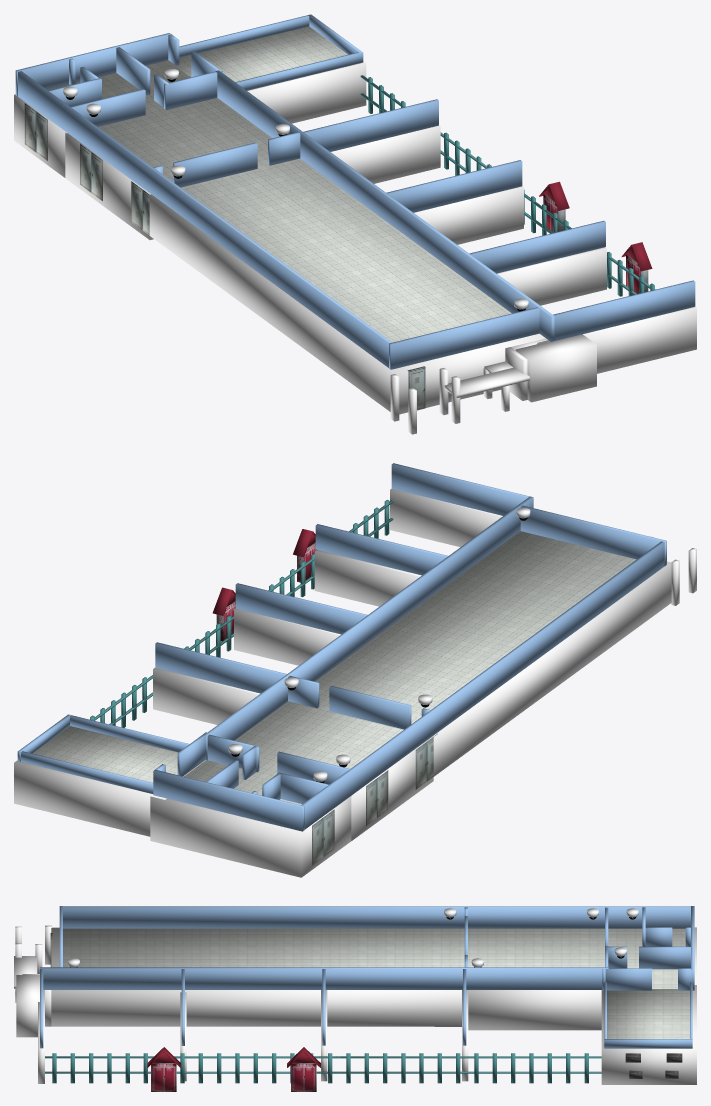
The model's file is ts_2f_mini.gltf.
3 views of the same model, one above another, from view 1: azimuth 30°, elevation 25°; view 2: azimuth 150°, elevation 25°; view 3: azimuth 270°, elevation 25° (orthographic). The views are drawn at different scales.
Parts seen in each view (by area): view 1: ts_dimian_2f, ts_waiguan_2f_11, ts_qiang_2f_8, ts_qiang_2f_7, ts_waiguan_2f_8, ts_waiguan_2f_27, ts_qiang_2f_6, ts_waiguan_2f_24, ts_qiang_2f, ts_waiguan_2f_22, ts_waiguan_2f_23, ts_waiguan_2f_21 (+17 smaller); view 2: ts_dimian_2f, ts_qiang_2f_8, ts_waiguan_2f_11, ts_waiguan_2f_7, ts_qiang_2f_7, ts_waiguan_2f_27, ts_qiang_2f_5, ts_waiguan_2f_8, ts_waiguan_2f_21, ts_waiguan_2f_22, ts_waiguan_2f_23, ts_qiang_2f_6 (+14 smaller); view 3: ts_dimian_2f, ts_waiguan_2f_11, ts_qiang_2f_8, ts_qiang_2f_7, ts_waiguan_2f_9, ts_waiguan_2f_27, ts_waiguan_2f_24, ts_qiang_2f_15, ts_qiang_2f_19, ts_qiang_2f_21, ts_waiguan_2f_18, ts_waiguan_2f_42 (+17 smaller).
Part boxes in pixels (x1,y1,x2,y2): ts_dimian_2f: (47, 26, 511, 342); ts_waiguan_2f_11: (149, 194, 545, 414); ts_qiang_2f_8: (18, 71, 391, 367); ts_qiang_2f_7: (215, 70, 554, 341); ts_waiguan_2f_8: (537, 307, 696, 373); ts_waiguan_2f_27: (248, 61, 366, 123); ts_qiang_2f_6: (389, 307, 539, 369); ts_waiguan_2f_24: (515, 334, 596, 402); ts_qiang_2f: (553, 280, 695, 340); ts_waiguan_2f_22: (497, 247, 606, 305); ts_waiguan_2f_23: (414, 186, 523, 244); ts_waiguan_2f_21: (331, 125, 440, 183); ts_dimian_2f: (24, 531, 636, 804); ts_qiang_2f_8: (301, 541, 664, 829); ts_waiguan_2f_11: (433, 561, 671, 776); ts_waiguan_2f_7: (150, 795, 352, 877); ts_qiang_2f_7: (204, 496, 533, 760); ts_waiguan_2f_27: (14, 760, 166, 836); ts_qiang_2f_5: (153, 769, 304, 831); ts_waiguan_2f_8: (390, 488, 502, 547); ts_waiguan_2f_21: (153, 668, 260, 724); ts_waiguan_2f_22: (314, 550, 421, 606); ts_waiguan_2f_23: (234, 608, 340, 665); ts_qiang_2f_6: (520, 505, 666, 565); ts_dimian_2f: (63, 928, 689, 1047); ts_waiguan_2f_11: (51, 927, 461, 1026); ts_qiang_2f_8: (63, 906, 690, 928); ts_qiang_2f_7: (40, 967, 608, 989); ts_waiguan_2f_9: (468, 990, 601, 1030); ts_waiguan_2f_27: (601, 985, 696, 1084); ts_waiguan_2f_24: (16, 975, 39, 1037); ts_qiang_2f_15: (639, 946, 690, 969); ts_qiang_2f_19: (605, 968, 651, 990); ts_qiang_2f_21: (604, 1039, 692, 1048); ts_waiguan_2f_18: (151, 1063, 176, 1091); ts_waiguan_2f_42: (291, 1063, 316, 1091).
Bounding box in the file's own units: 28.91 × 6.46 × 63.51.
13 materials, 9 textured.
